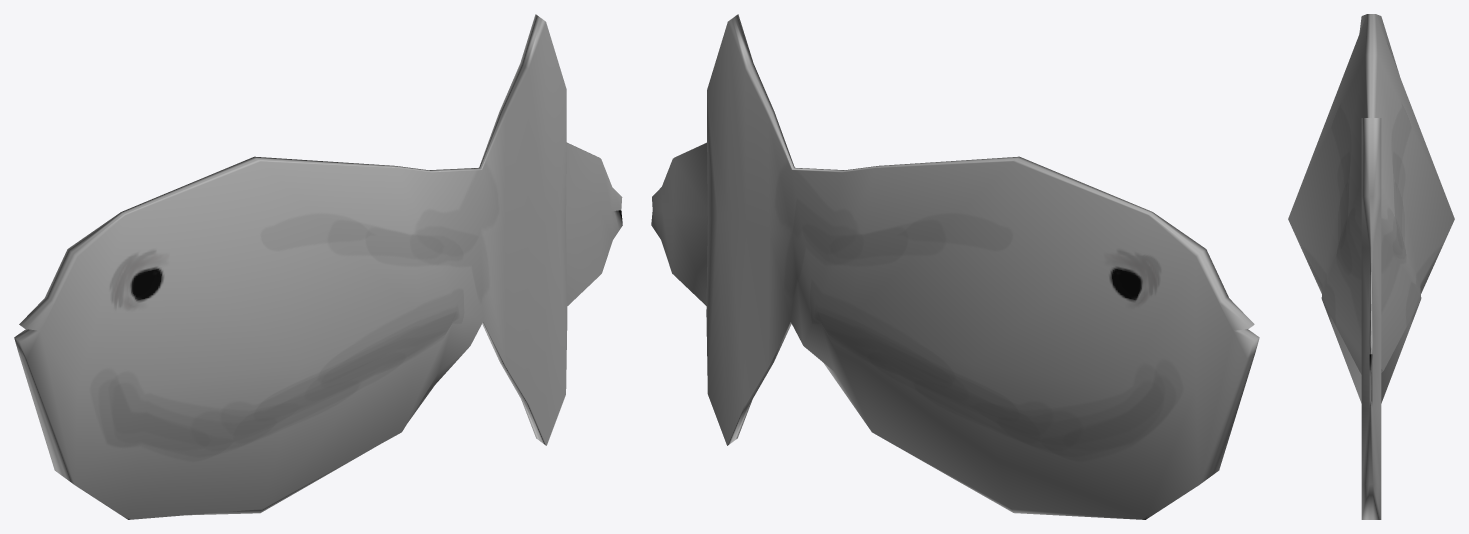
Rendered from Fish05.fbx.
The picture shows the model from 3 angles, left to right: view 1: azimuth 30°, elevation 25°; view 2: azimuth 150°, elevation 25°; view 3: azimuth 270°, elevation 25°; orthographic projection. The views are drawn at different scales.
Visible parts, largest first — view 1: Fish05; view 2: Fish05; view 3: Fish05.
Boxes of the visible parts, <box> form: Fish05: <box>14,14,622,519</box>; Fish05: <box>651,14,1259,519</box>; Fish05: <box>1288,14,1454,519</box>.
Size of the model in its own units: 5.15 by 3.47 by 1.3.
